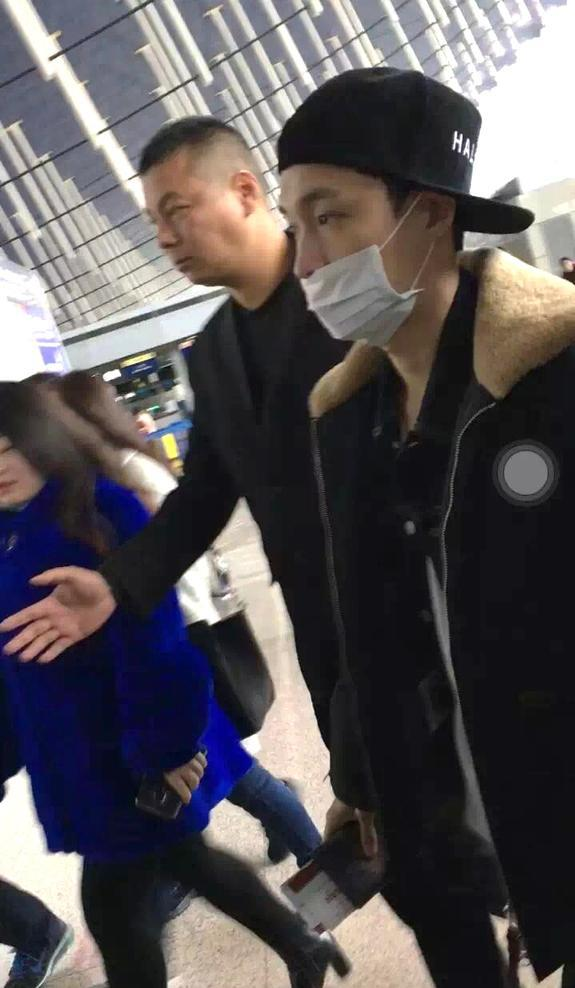NONE: (149, 171, 242, 289)
WRONG: (278, 194, 435, 351)
